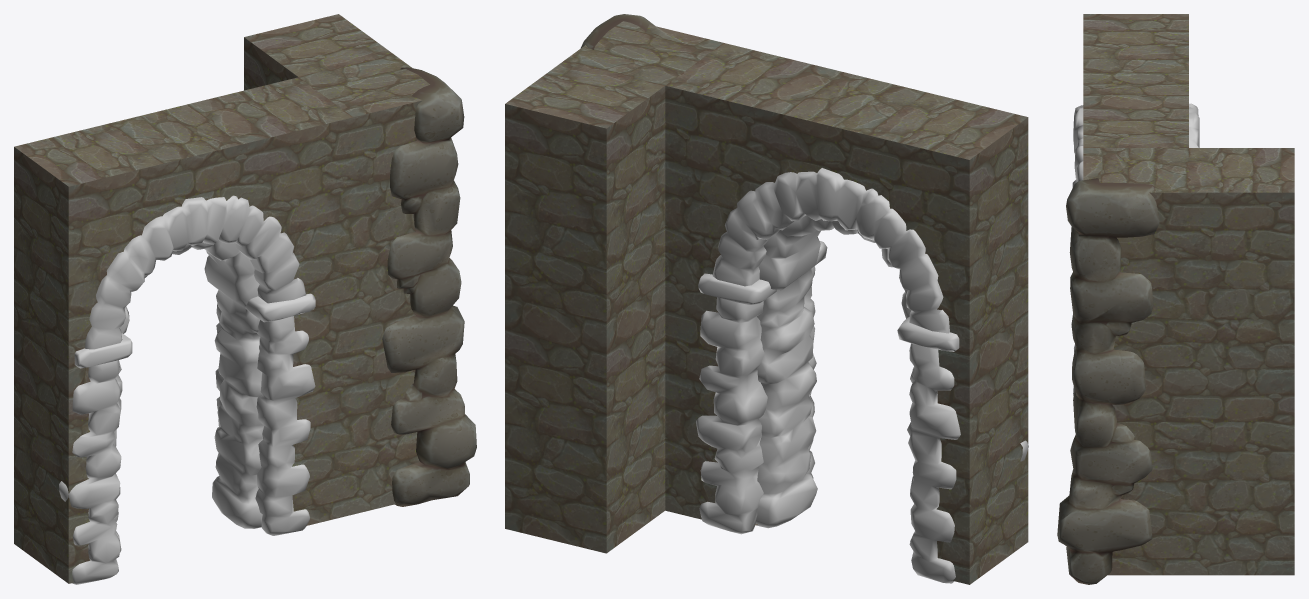
The model's file is MSH_fwOF_Ruins_Wall_Corner_Doorway_01.fbx.
The picture shows the model from 3 angles, left to right: view 1: azimuth 30°, elevation 25°; view 2: azimuth 150°, elevation 25°; view 3: azimuth 270°, elevation 25°; orthographic projection. The views are drawn at different scales.
Parts seen in each view (by area): view 1: MSH_fwOF_Ruins_Wall_Corner_Door_01_Base, MSH_fwOF_Ruins_Wall_Corner_Door_01_LOD0; view 2: MSH_fwOF_Ruins_Wall_Corner_Door_01_Base, MSH_fwOF_Ruins_Wall_Corner_Door_01_LOD0; view 3: MSH_fwOF_Ruins_Wall_Corner_Door_01_Base, MSH_fwOF_Ruins_Wall_Corner_Door_01_LOD0.
Boxes of the visible parts, box(x1,y1,x2,y2) form: MSH_fwOF_Ruins_Wall_Corner_Door_01_Base: box(14, 14, 429, 583); MSH_fwOF_Ruins_Wall_Corner_Door_01_LOD0: box(59, 67, 476, 584); MSH_fwOF_Ruins_Wall_Corner_Door_01_Base: box(505, 21, 1028, 584); MSH_fwOF_Ruins_Wall_Corner_Door_01_LOD0: box(581, 14, 1028, 583); MSH_fwOF_Ruins_Wall_Corner_Door_01_Base: box(1083, 14, 1294, 575); MSH_fwOF_Ruins_Wall_Corner_Door_01_LOD0: box(1057, 103, 1199, 584).
Size of what is drawn, in the model's own units: 4.24 by 4.12 by 2.25.
